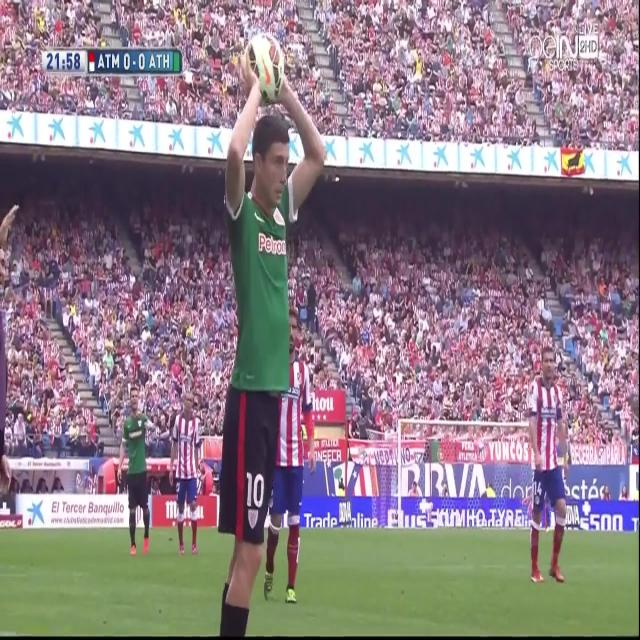Ball: (239, 29, 287, 106)
Player: (216, 72, 328, 640), (262, 302, 317, 603), (528, 343, 572, 586), (166, 392, 204, 558), (116, 386, 152, 558)
